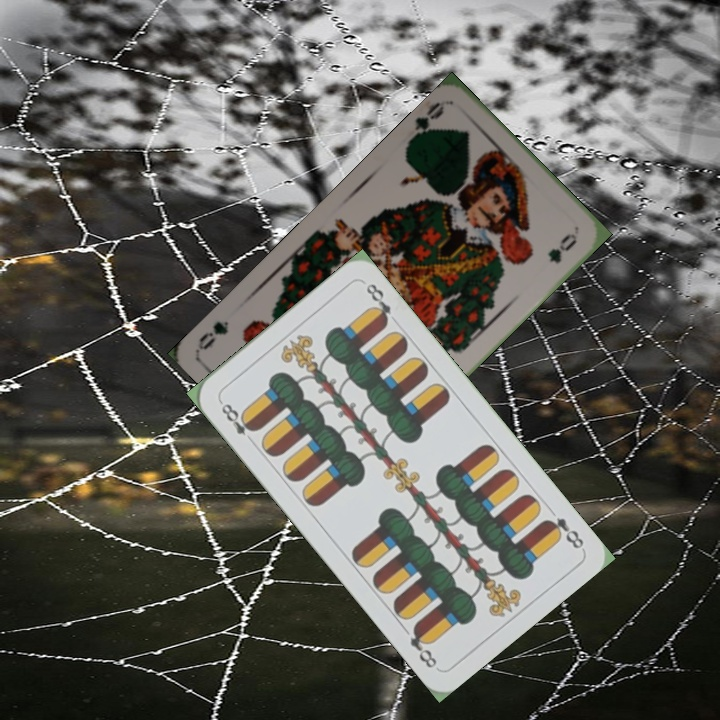E8: (215, 397, 260, 438), (540, 513, 587, 552)
GO: (403, 97, 447, 148)
